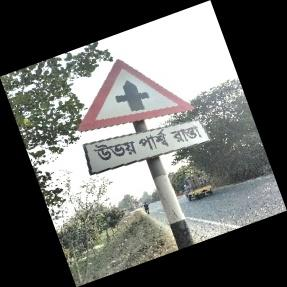Crossroad: (74, 59, 220, 181)
